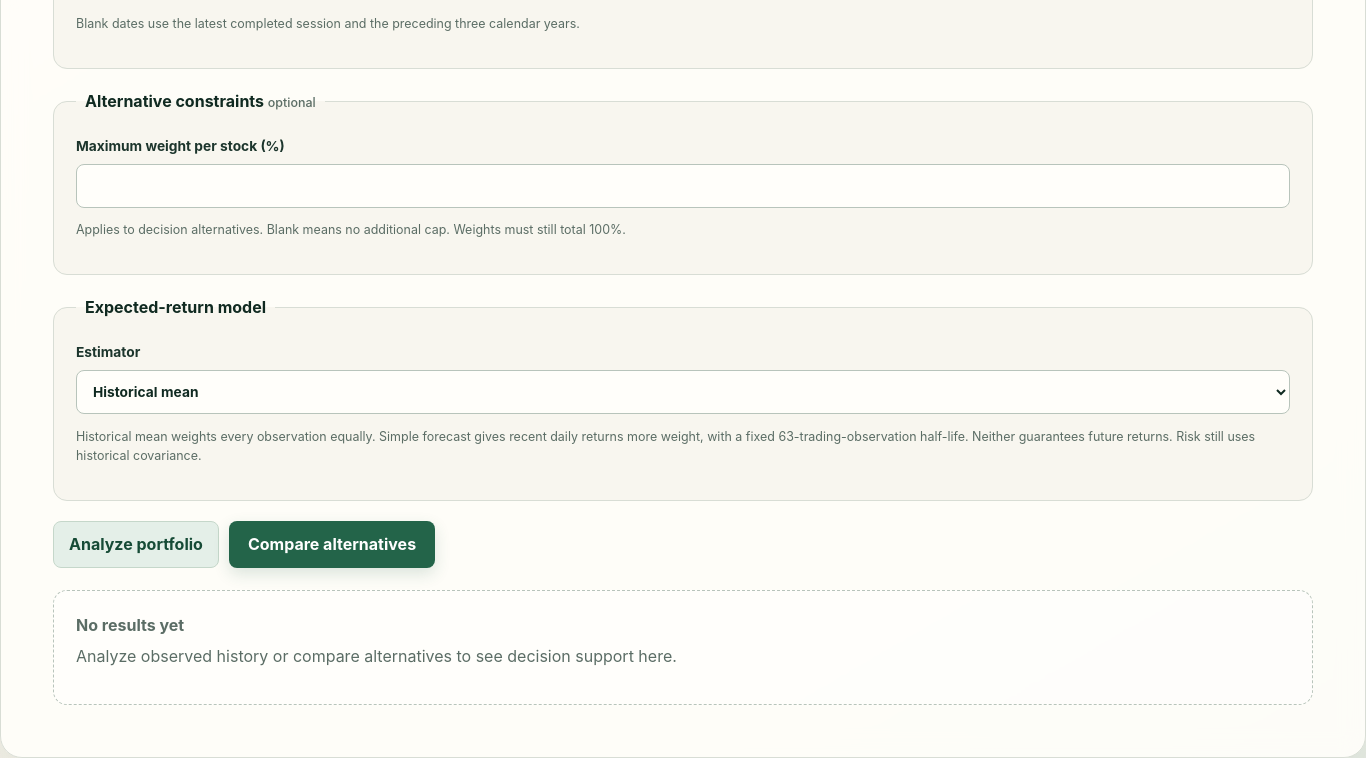
Scenario: ignores a superseded manual estimator response
The image size is (1366, 758).
(page scrolled)
Click the button "Compare alternatives".
click(332, 544)  # box 229,521 -> 435,568
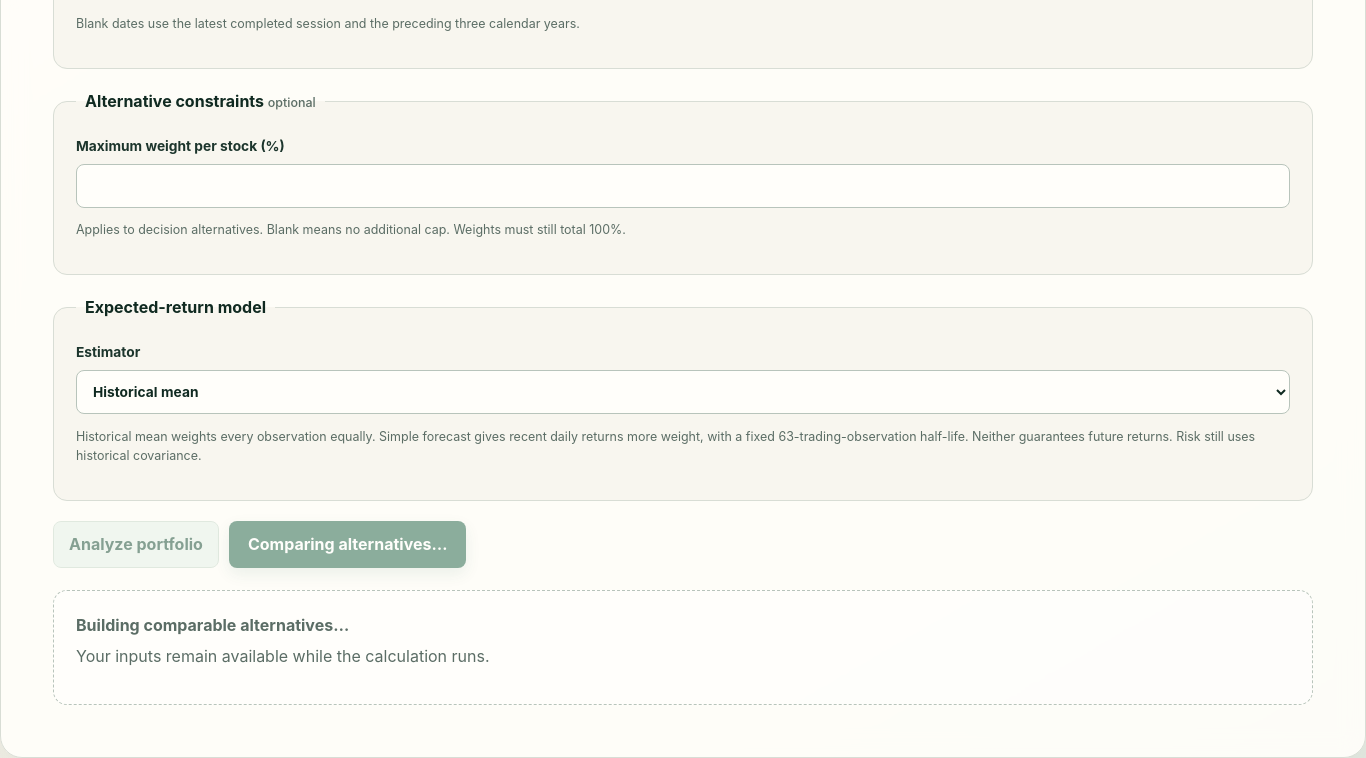
Select "Simple forecast (recent returns weighted more)" in the dropdown labelled "Estimator" at (683, 392), box 76,370 -> 1290,414
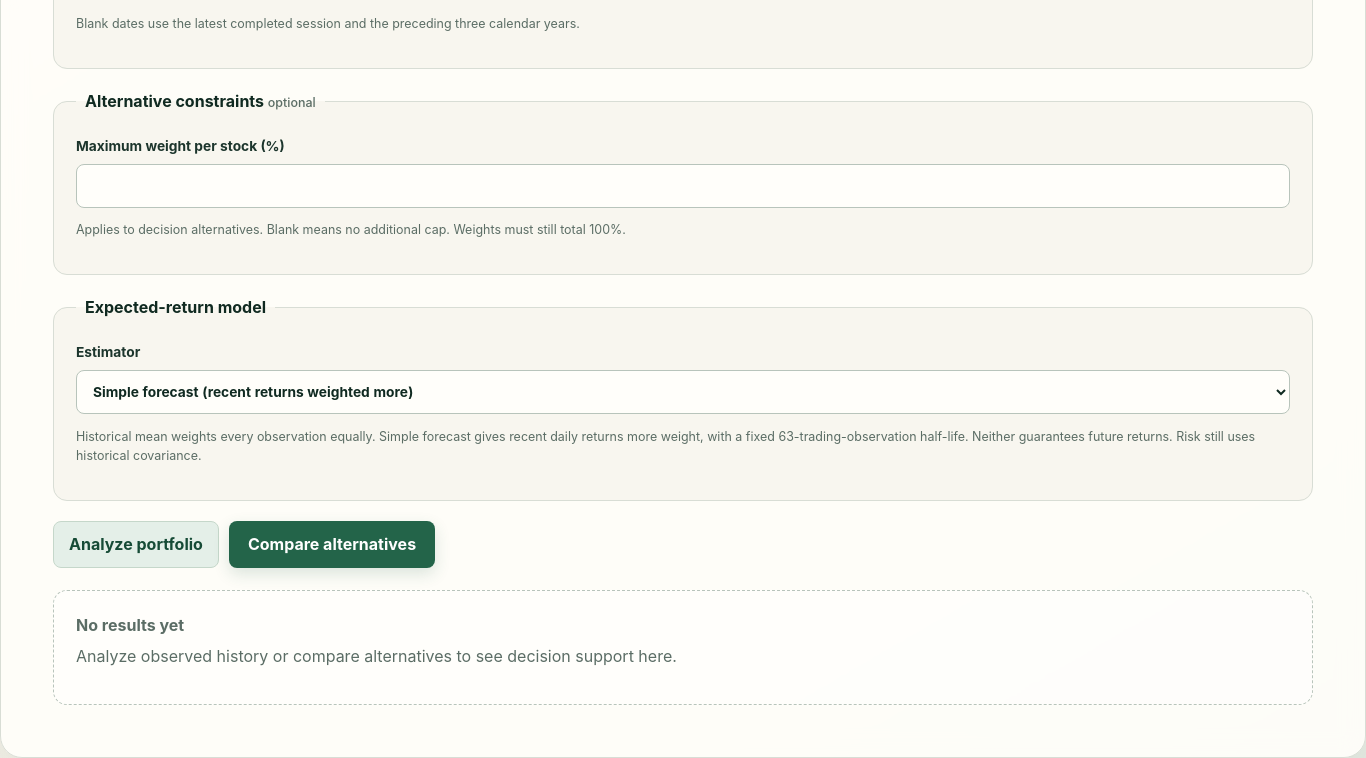
Click the button "Compare alternatives".
click(332, 544)  # box 229,521 -> 435,568
(page scrolled)
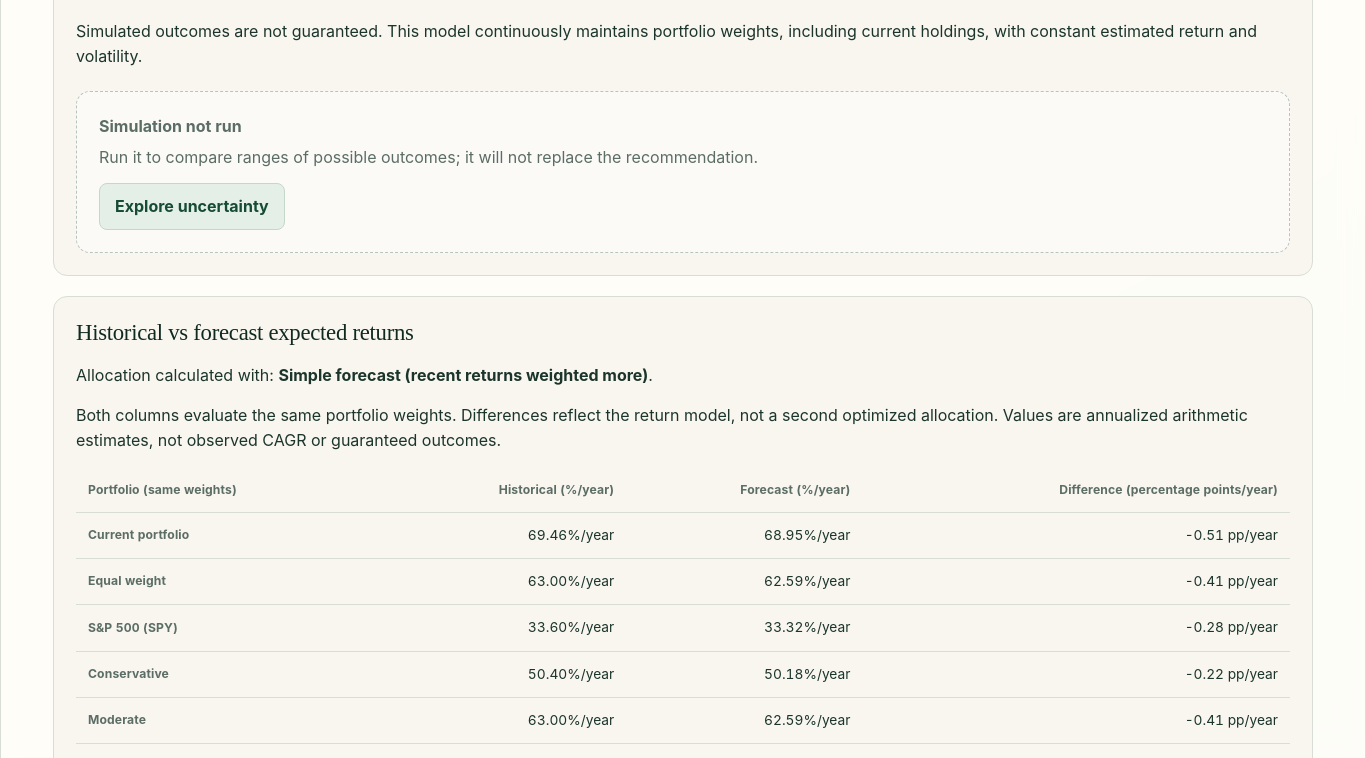
Expected: the heading "Historical vs forecast expected returns" is shown, 76,320 -> 414,345
Expected: the text "Allocation calculated with" shows "Simple forecast", 278,364 -> 648,384
